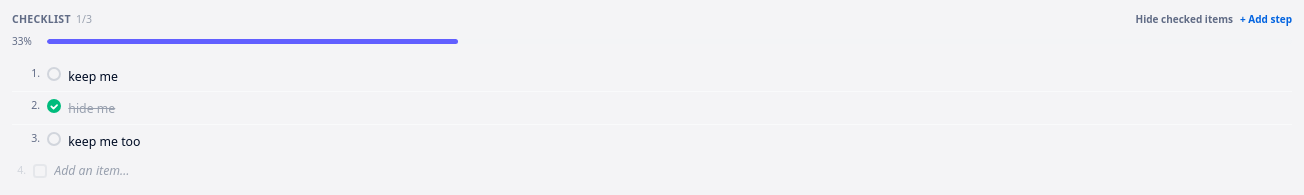
it: StepsPanel › Hide checked items removes done rows and keeps the rest numbered by true position
Check: the text "hide me" is shown, box [68,100,115,118]
Click the button "Hide checked items" at (1184, 20), box [1136,12,1233,27]
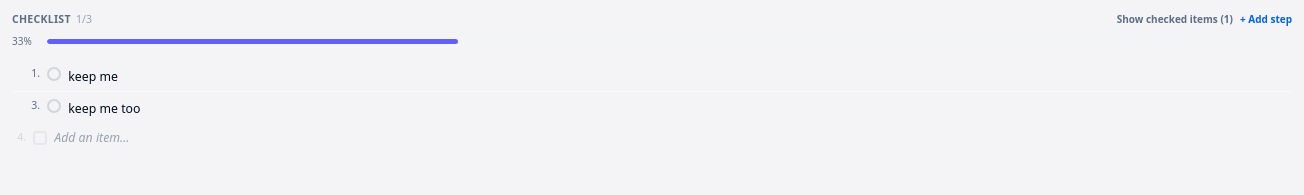
Check: the text "keep me" is shown, box [68,68,118,85]
Check: the text "hide me" is gone
